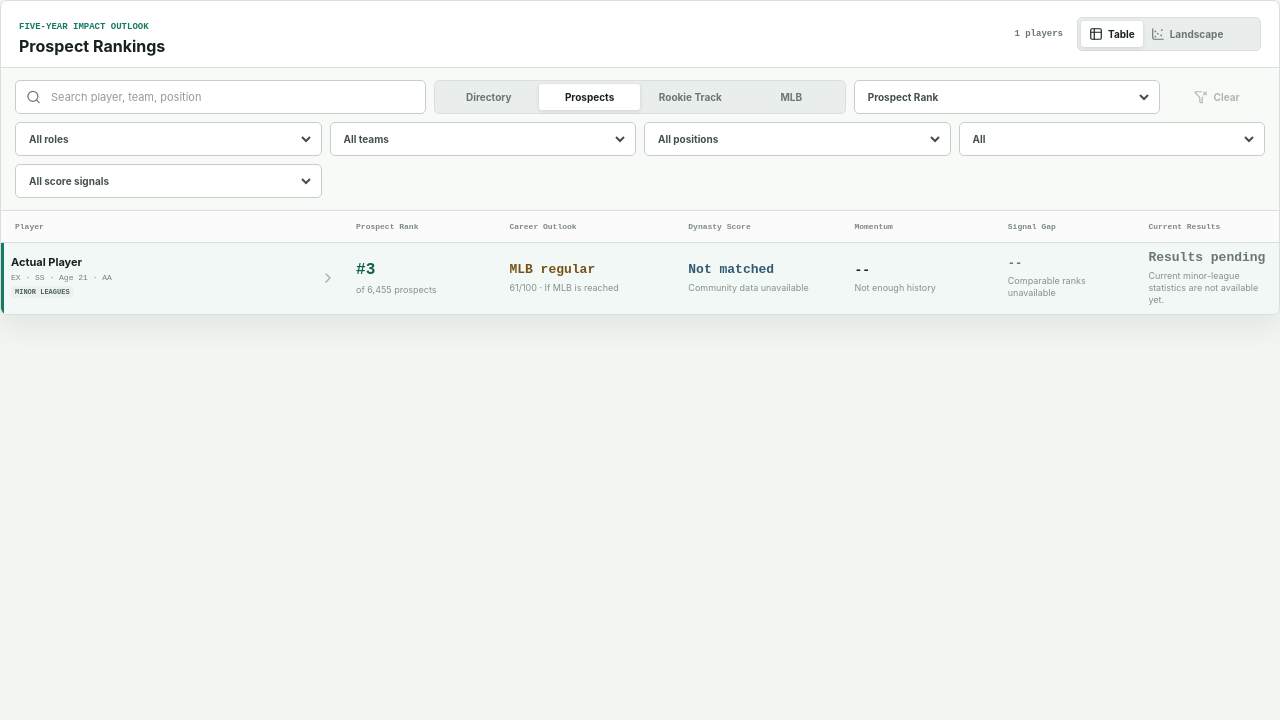
it: unified Oracle Board shell › leads the MiLB board with one exact Prospect Rank
Expected: the heading "Prospect Rankings" is shown, [19,36,165,56]
Expected: the column heading "Prospect Rank" is shown, [346,211,499,242]
Step 1. Click the button "Landscape" → [1187, 34], box [1143,21,1231,47]
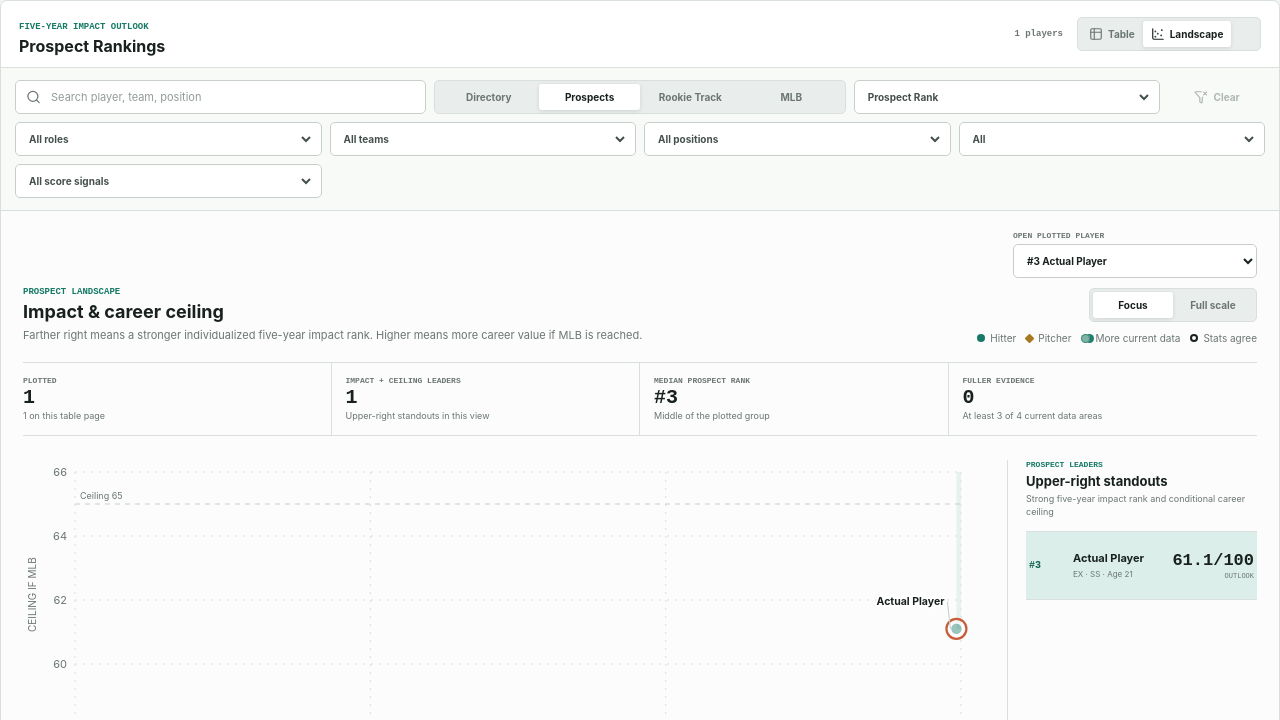
Result: the heading "Impact & career ceiling" is shown at [23,301,224,322]
Result: the text "1 on this table page" is shown at [23,410,105,421]
Result: the text "Upper-right standouts" is shown at [1026,473,1168,489]
